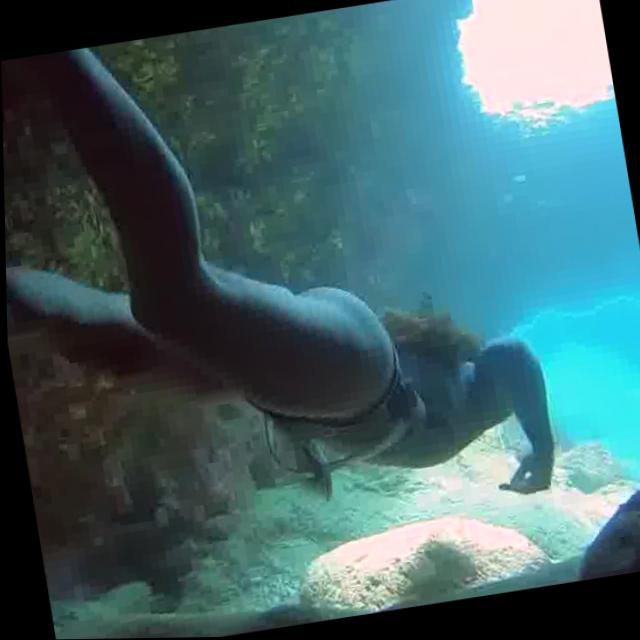human: (0, 0, 573, 581)
